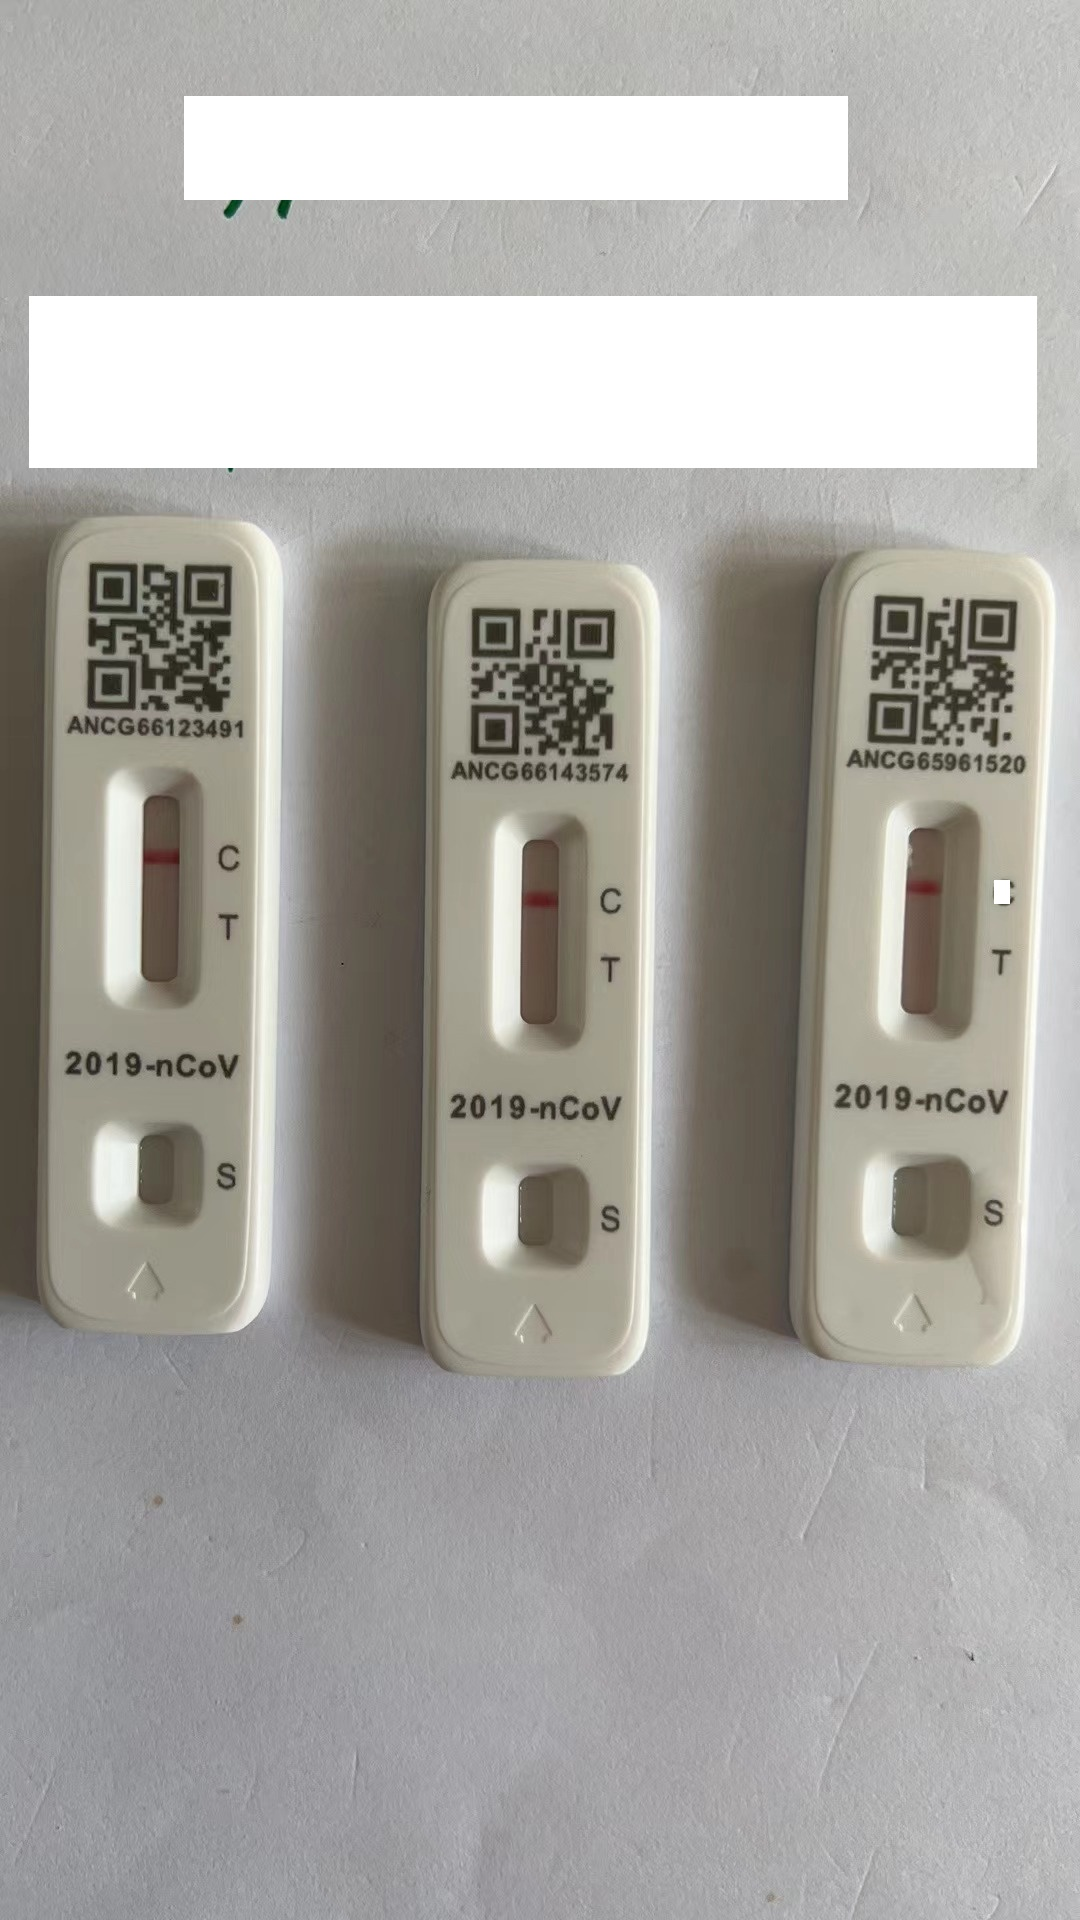negative: (105, 764, 206, 1015), (495, 808, 593, 1062), (880, 799, 977, 1040)
